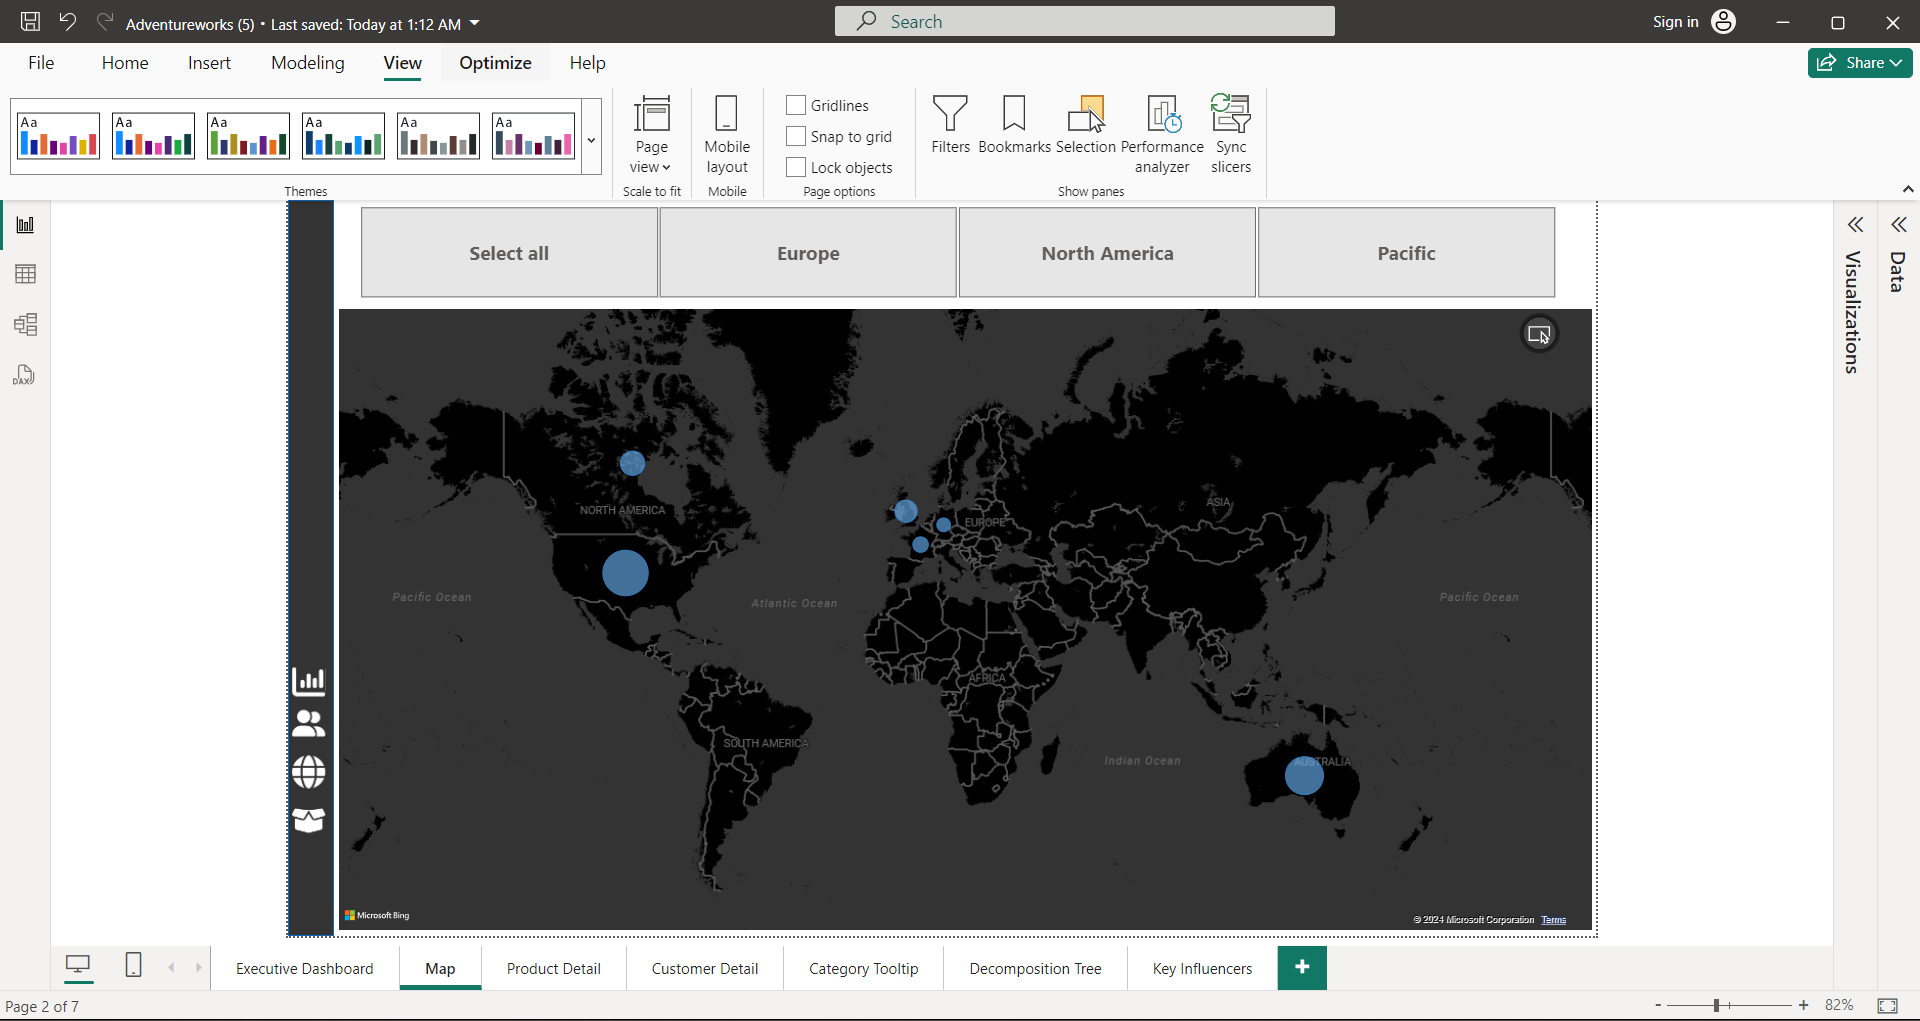

The page's visual inventory and layout, read from the dashboard file:
{"tool":"powerbi","page":{"name":"Map","canvas":[1280,720],"ordinal":1},"visuals":[{"type":"shape","box":[0,0,45,720],"z":0},{"type":"actionButton","box":[0,451.4,45.3,40.4],"z":0,"group":"g1"},{"type":"actionButton","box":[0,491.8,45.3,40.4],"z":1000,"group":"g1"},{"type":"map","fields":{"Category":["Territory Lookup.Country"],"Size":["Measure Table.Total Orders"]},"box":[45.3,101.9,1234.5,618.1],"z":1000},{"type":"slicer","fields":{"Values":["Territory Lookup.Continent"]},"box":[45.3,0,1218.3,101.9],"z":2000},{"type":"actionButton","box":[0,539.6,45.3,40.4],"z":2000,"group":"g1"},{"type":"actionButton","box":[0,587.3,45.3,40.4],"z":3000,"group":"g1"},{"type":"group","id":"g1","title":"Navigation Button","box":[0,451.4,45.3,176.4],"z":3000}]}

Visuals, with their boxes on the page's 1280x720 design canvas (x1, y1, x2, y2). These are canvas units, not pixel positions in the 1920x1021 screenshot, which may show the page scaled, cropped or inside an application window:
shape: [0,0,45,720]
actionButton: [0,451,45,492]
actionButton: [0,492,45,532]
map - Territory Lookup.Country x Measure Table.Total Orders: [45,102,1280,720]
slicer - Territory Lookup.Continent: [45,0,1264,102]
actionButton: [0,540,45,580]
actionButton: [0,587,45,628]
"Navigation Button" group: [0,451,45,628]
